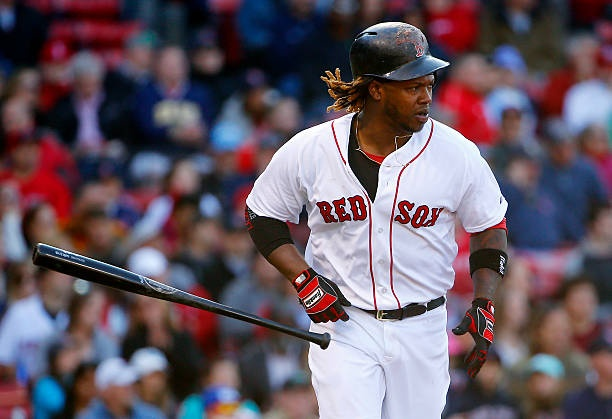bita: (28, 242, 328, 349)
